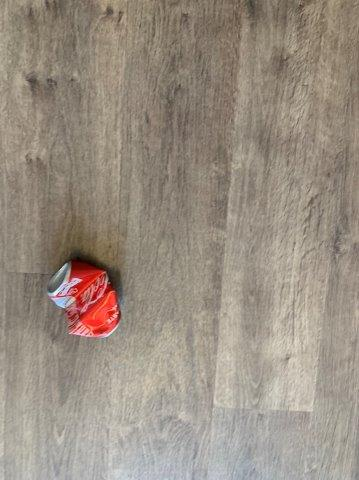kaleng: (48, 261, 119, 335)
